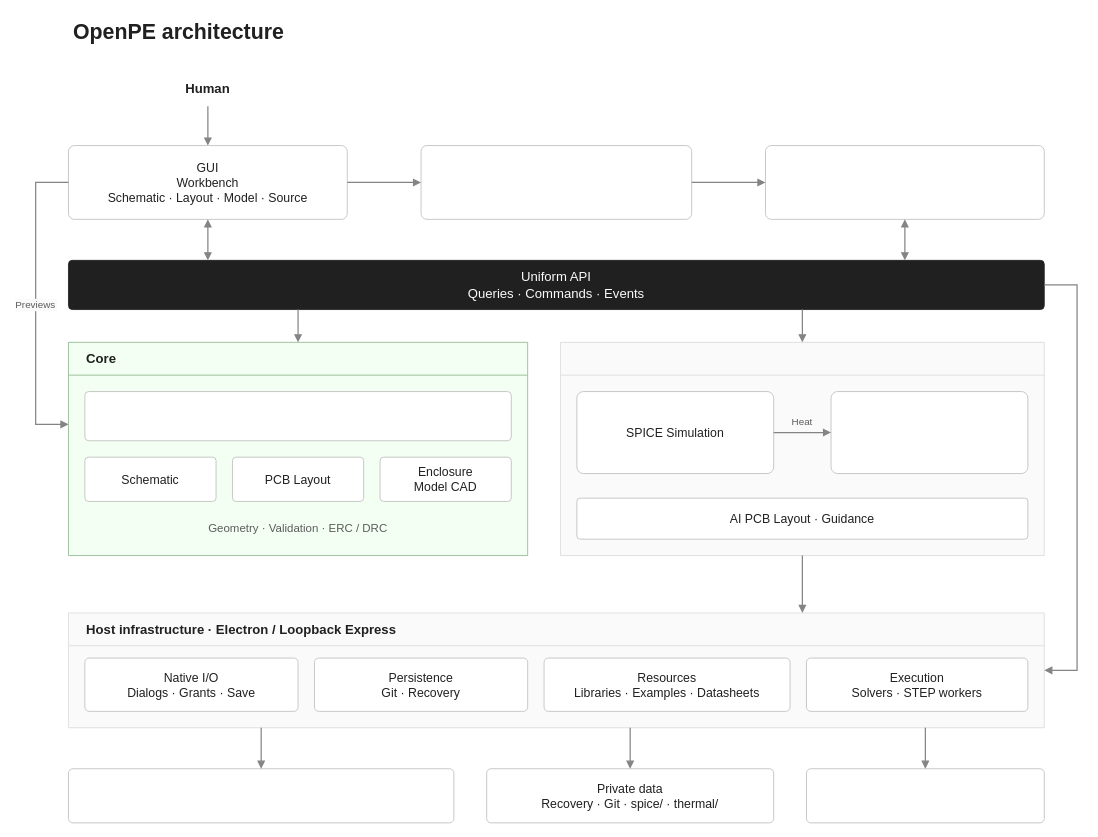
Some shapes in this 1098 by 837 pixel diagram are drawn without their labels. Each missing label, with the box of its shape:
Agent adapters Scoped tools · Reviewed proposals: (765, 145, 1044, 219)
Bundled plugins: (560, 342, 1044, 556)
CAD export .step: (806, 768, 1044, 823)
Context Management Observations · Capture: (420, 145, 692, 219)
Native KiCad project .kicad_pro · .kicad_sch · .kicad_pcb: (68, 768, 454, 823)
ProjectCore State · Source · Undo: (84, 391, 511, 441)
Thermal FEM: (830, 391, 1028, 474)
